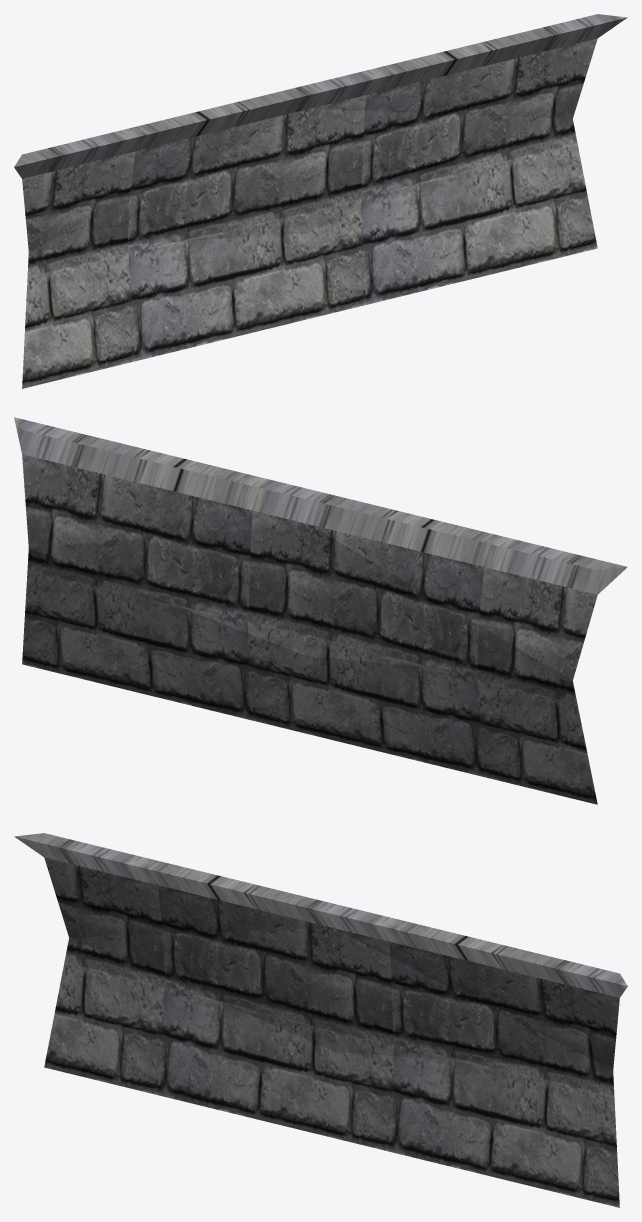
Rendered from W_A1_xxxx [Schalsteine]_454.glb.
3 views of the same model, one above another, from view 1: azimuth 30°, elevation 25°; view 2: azimuth 150°, elevation 25°; view 3: azimuth 330°, elevation 25° (orthographic).
Visible parts, largest first — view 1: polySurfaceShape787, polySurfaceShape1065; view 2: polySurfaceShape787, polySurfaceShape1065; view 3: polySurfaceShape787, polySurfaceShape1065.
Boxes of the visible parts, x1=… form: polySurfaceShape787: x1=22, y1=38, x2=597, y2=388; polySurfaceShape1065: x1=14, y1=14, x2=627, y2=178; polySurfaceShape787: x1=22, y1=454, x2=597, y2=804; polySurfaceShape1065: x1=14, y1=417, x2=627, y2=594; polySurfaceShape787: x1=44, y1=857, x2=619, y2=1207; polySurfaceShape1065: x1=14, y1=833, x2=627, y2=997.
Bounding box in the file's own units: 1.07 × 0.3891 × 0.0607.
Materials: 2 (2 with a texture image).
